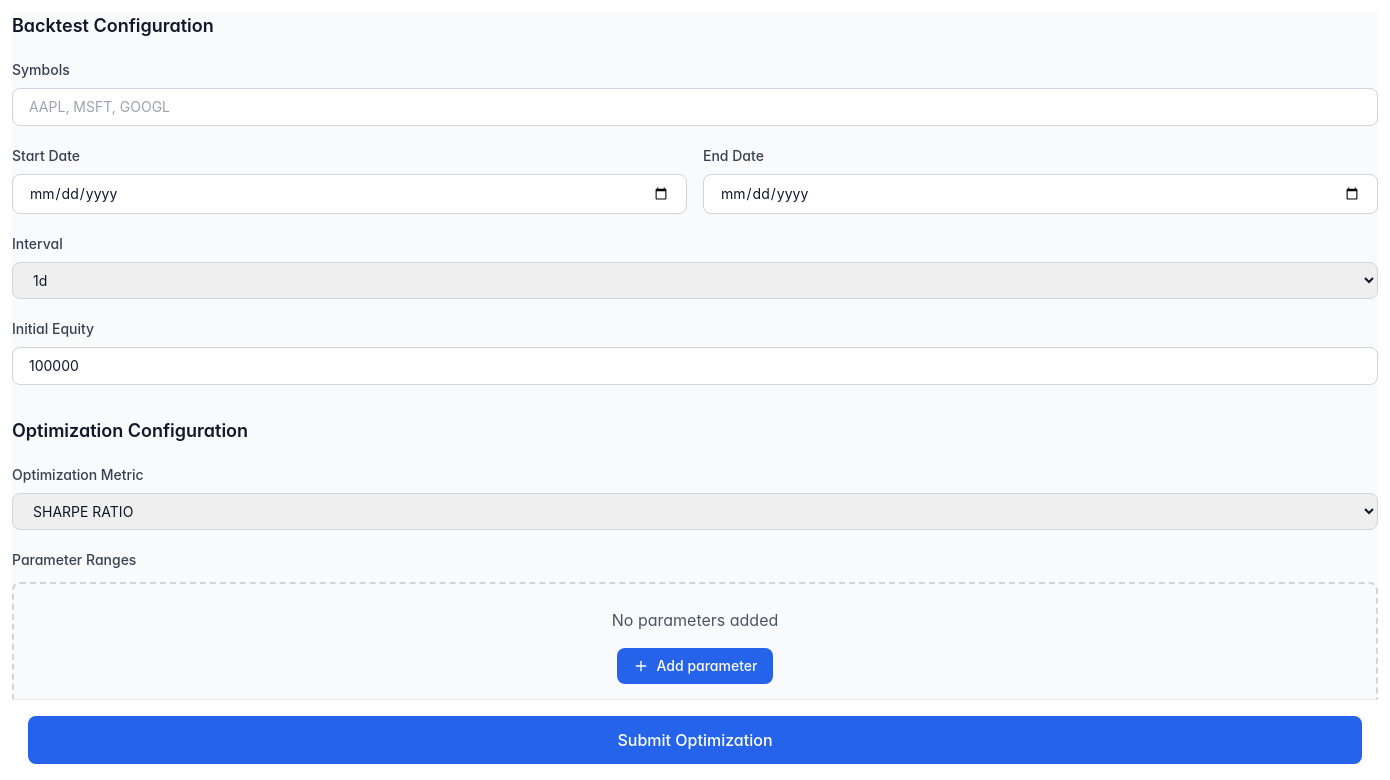
Scenario: OptimizationForm › parameter range editor › removes_parameter_on_delete
Click the button "Add parameter".
click(695, 666)  # box [616, 648, 773, 684]
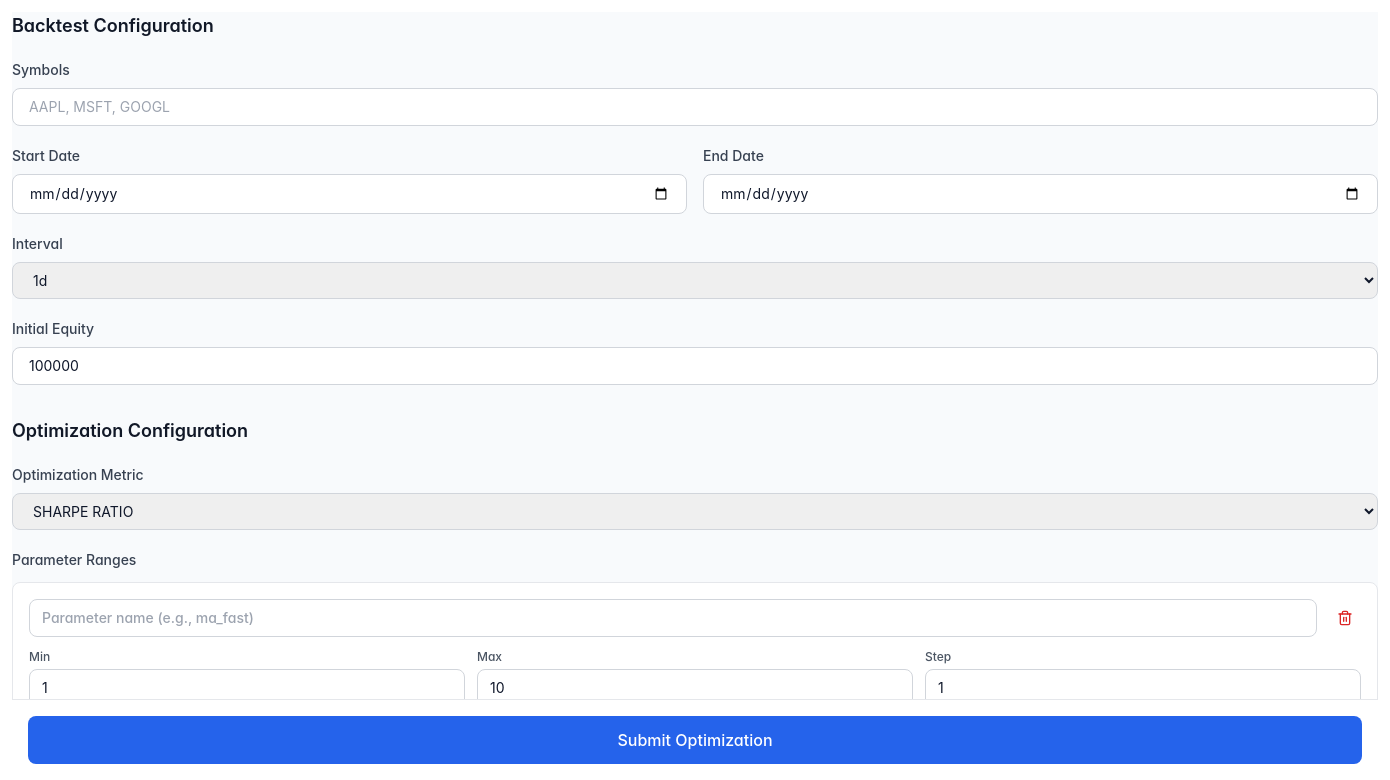
Click the button named "remove parameter".
click(1345, 618)  # box [1329, 602, 1361, 634]
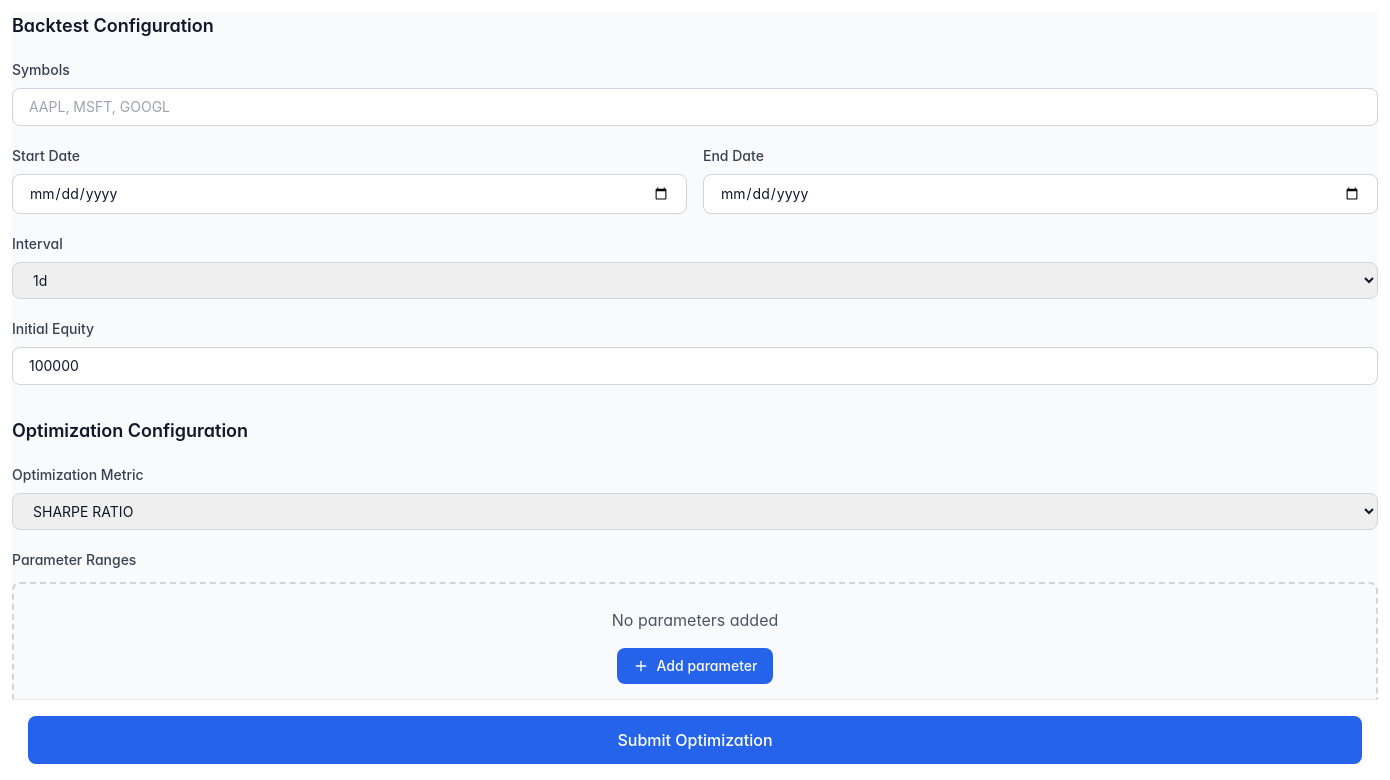
Check: the label labelled "Min" is gone
